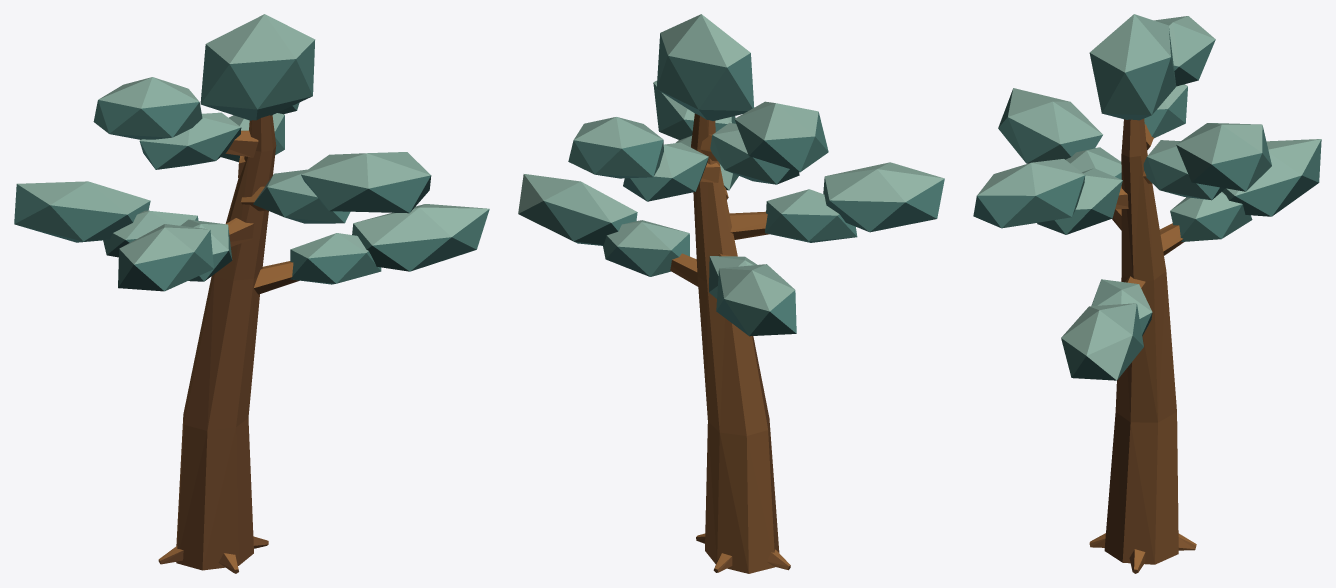
The picture shows the model from 3 angles, left to right: view 1: azimuth 30°, elevation 25°; view 2: azimuth 150°, elevation 25°; view 3: azimuth 270°, elevation 25°; orthographic projection. The views are drawn at different scales.
Parts seen in each view (by area): view 1: WK_Tree_Pine_WindblownBlue_LOD0_High; view 2: WK_Tree_Pine_WindblownBlue_LOD0_High; view 3: WK_Tree_Pine_WindblownBlue_LOD0_High.
Part boxes in pixels (<box>): WK_Tree_Pine_WindblownBlue_LOD0_High: <box>14,14,489,573</box>; WK_Tree_Pine_WindblownBlue_LOD0_High: <box>518,14,944,573</box>; WK_Tree_Pine_WindblownBlue_LOD0_High: <box>973,14,1321,573</box>.
Size of the model in its own units: 5.4 by 6.99 by 3.94.
